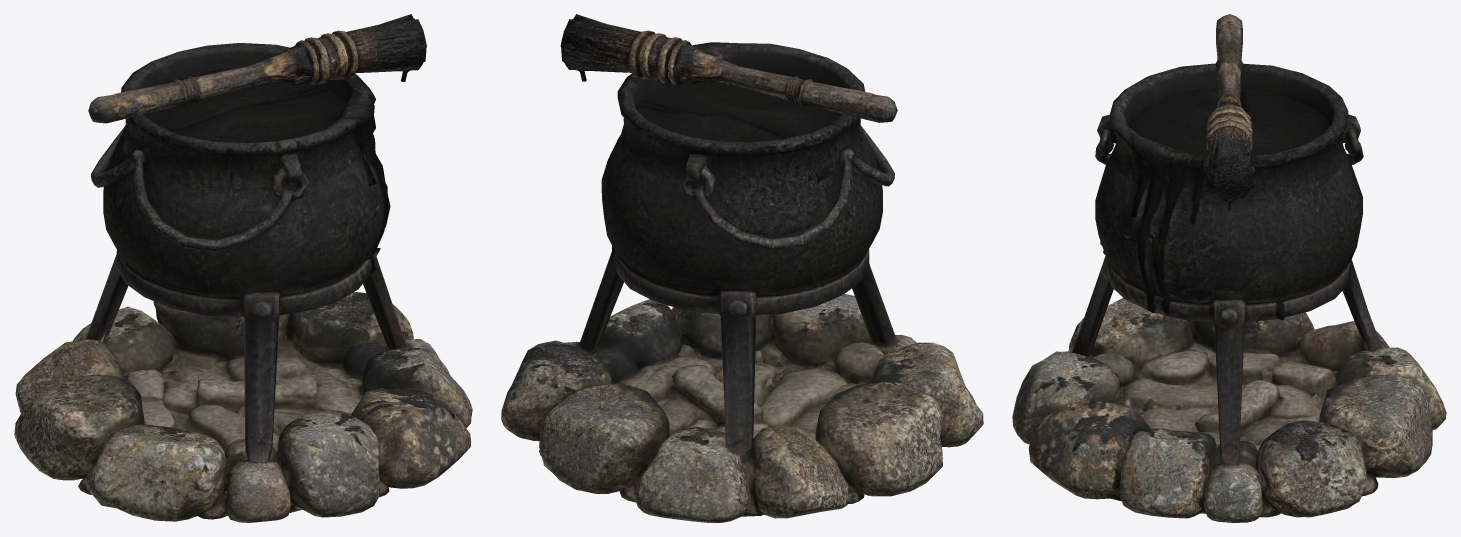
File: kit_sf_tar_pot.glb
3 renders of one model, left to right at view 1: azimuth 30°, elevation 25°; view 2: azimuth 150°, elevation 25°; view 3: azimuth 270°, elevation 25°, orthographic. The views are drawn at different scales.
Visible parts, largest first — view 1: kit_sf_tar_pot; view 2: kit_sf_tar_pot; view 3: kit_sf_tar_pot.
Boxes of the visible parts, x1,y1,x2,y2 form: kit_sf_tar_pot: (14,14,472,522); kit_sf_tar_pot: (501,14,983,522); kit_sf_tar_pot: (1012,14,1446,522).
Bounding box in the file's own units: 1.11 × 1 × 1.09.
1 material, 1 textured.
